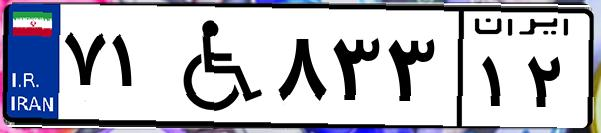1: (475, 38, 525, 113), (110, 28, 158, 98)
2: (525, 38, 570, 115)
3: (385, 28, 445, 110), (330, 28, 385, 110)
7: (57, 26, 110, 100)
8: (270, 28, 330, 110)
ژ (معلولین و جانبازان): (158, 12, 270, 120)
